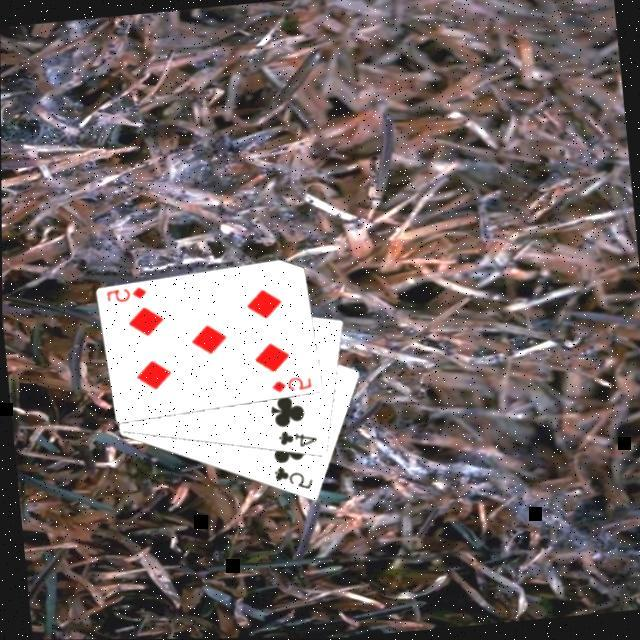4C: (272, 424, 318, 452)
5C: (267, 460, 314, 496)
5D: (264, 371, 312, 395), (100, 281, 148, 305)
